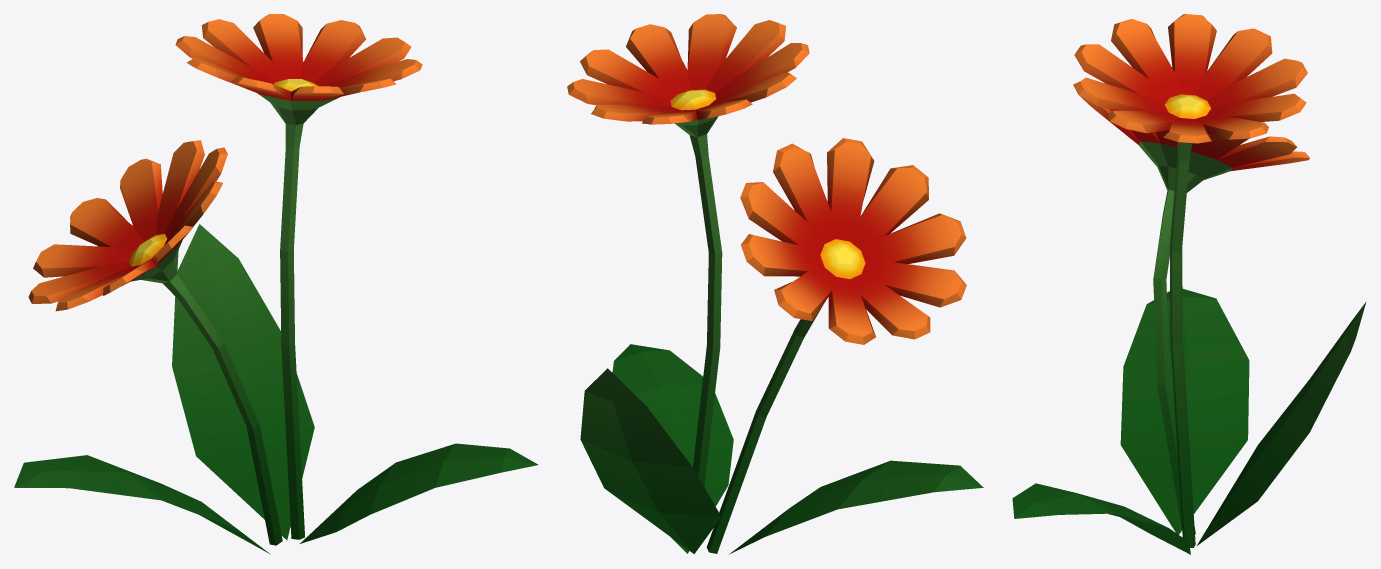
Rendered from Flower_Red_05.fbx.
The picture shows the model from 3 angles, left to right: view 1: azimuth 30°, elevation 25°; view 2: azimuth 150°, elevation 25°; view 3: azimuth 270°, elevation 25°; orthographic projection. The views are drawn at different scales.
Visible parts, largest first — view 1: Flower_Red_05; view 2: Flower_Red_05; view 3: Flower_Red_05.
Boxes of the visible parts, left/top/right/bottom form: Flower_Red_05: left=14, top=14, right=538, bottom=554; Flower_Red_05: left=567, top=14, right=983, bottom=554; Flower_Red_05: left=1012, top=14, right=1366, bottom=554.
Size of the model in its own units: 41.19 by 45.47 by 29.47.
